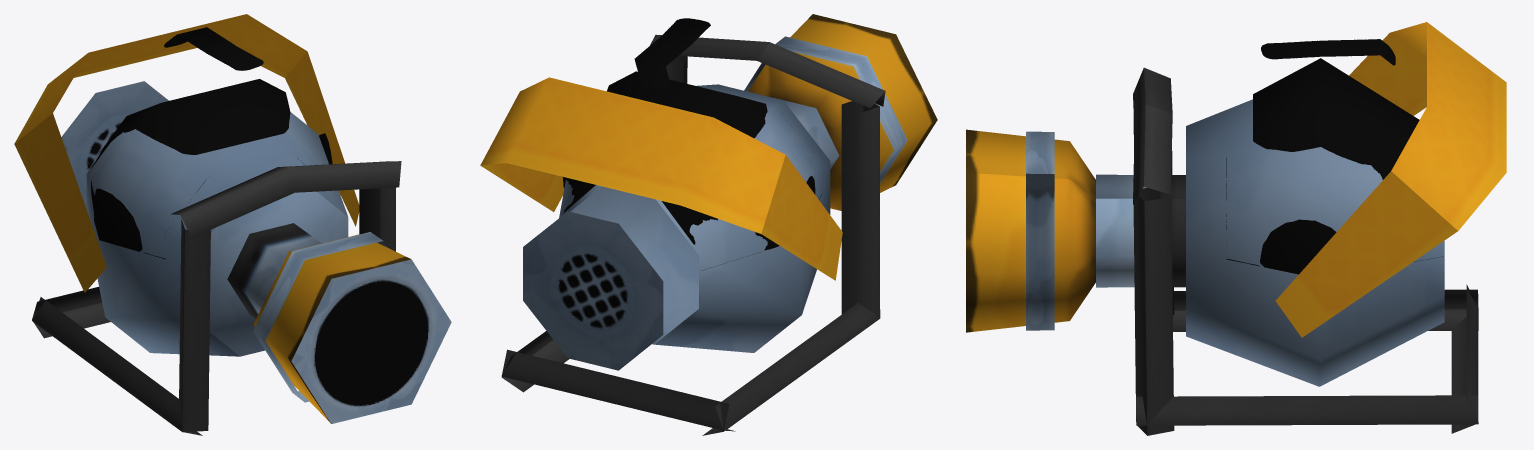
Rendered from obj_interactive_mountablewatercanon_lod1.fbx.
The picture shows the model from 3 angles, left to right: view 1: azimuth 30°, elevation 25°; view 2: azimuth 150°, elevation 25°; view 3: azimuth 270°, elevation 25°; orthographic projection. The views are drawn at different scales.
Parts seen in each view (by area): view 1: obj_interactive_mountablewatercanon_lod5; view 2: obj_interactive_mountablewatercanon_lod5; view 3: obj_interactive_mountablewatercanon_lod5.
Boxes of the visible parts, left/top/right/bottom form: obj_interactive_mountablewatercanon_lod5: left=14, top=14, right=451, bottom=435; obj_interactive_mountablewatercanon_lod5: left=480, top=14, right=937, bottom=435; obj_interactive_mountablewatercanon_lod5: left=966, top=22, right=1506, bottom=435.
Size of the model in its own units: 2.5 by 2.69 by 4.02.
Materials: 1 (1 with a texture image).
